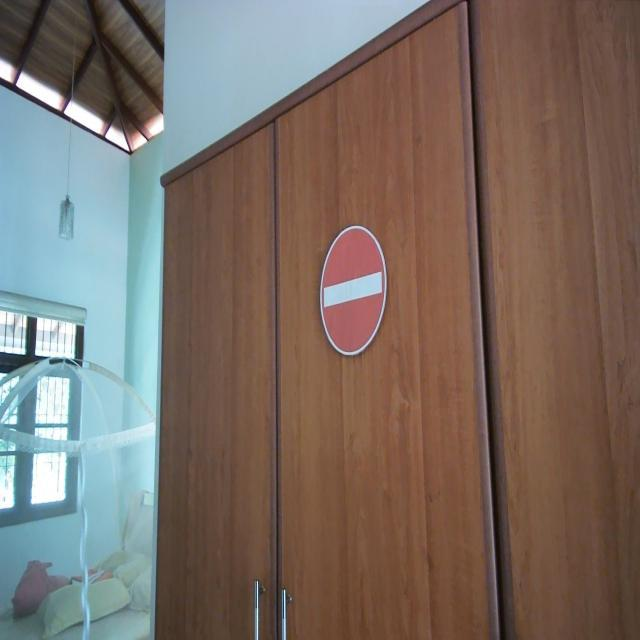no_entry: (318, 224, 388, 358)
